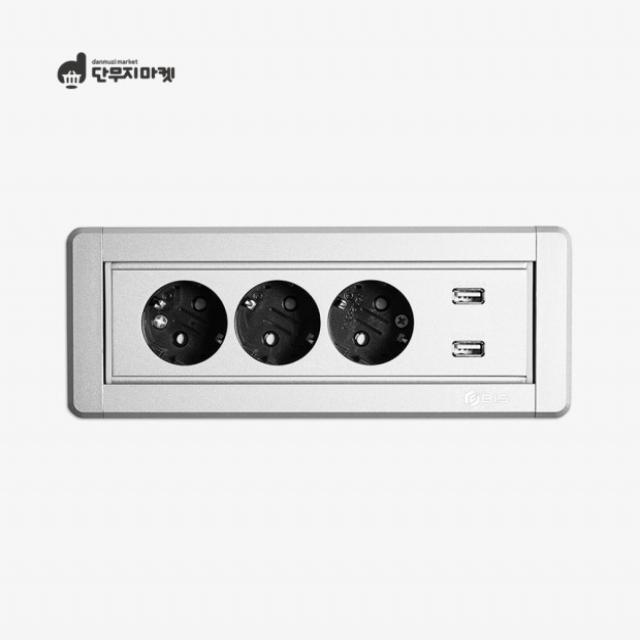typeb: (43, 216, 592, 434)
